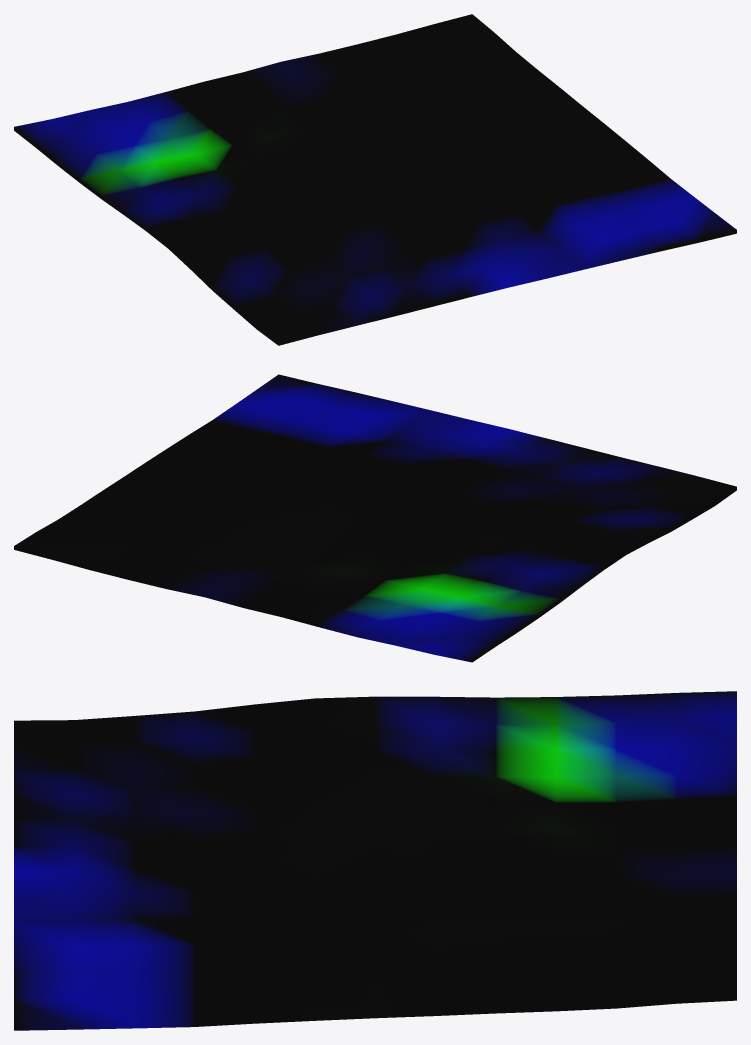
File: coast_6_6.glb
The picture shows the model from 3 angles, top to bottom: view 1: azimuth 30°, elevation 25°; view 2: azimuth 150°, elevation 25°; view 3: azimuth 270°, elevation 25°; orthographic projection. The views are drawn at different scales.
Visible parts, largest first — view 1: terrain; view 2: terrain; view 3: terrain.
Boxes of the visible parts, x1=… form: terrain: x1=14, y1=14, x2=736, y2=345; terrain: x1=14, y1=374, x2=736, y2=662; terrain: x1=14, y1=691, x2=736, y2=1030.
Size of the model in its own units: 192 by 10.48 by 192.
